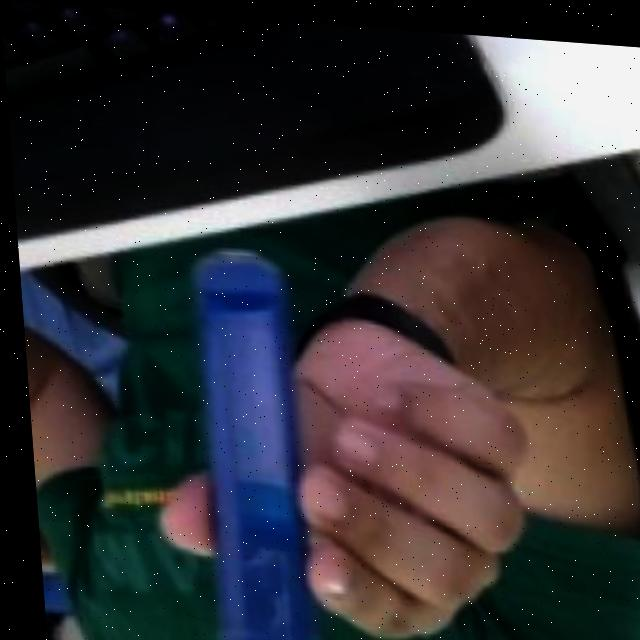vape: (183, 246, 304, 640)
